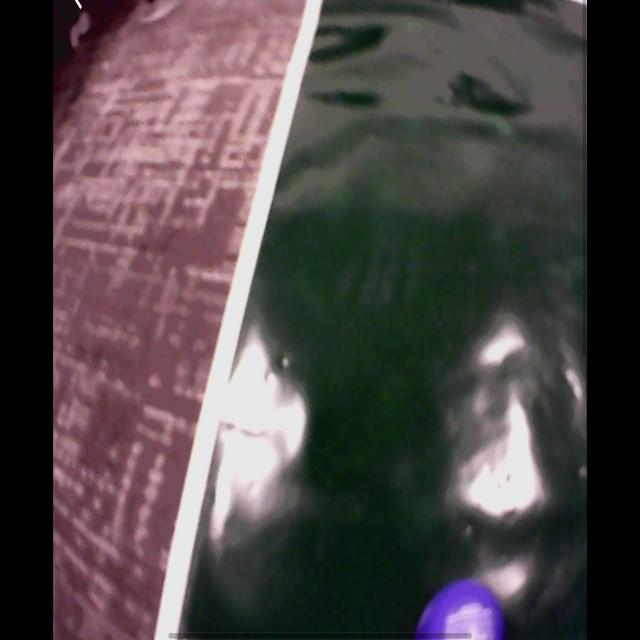ball: (413, 579, 505, 640)
